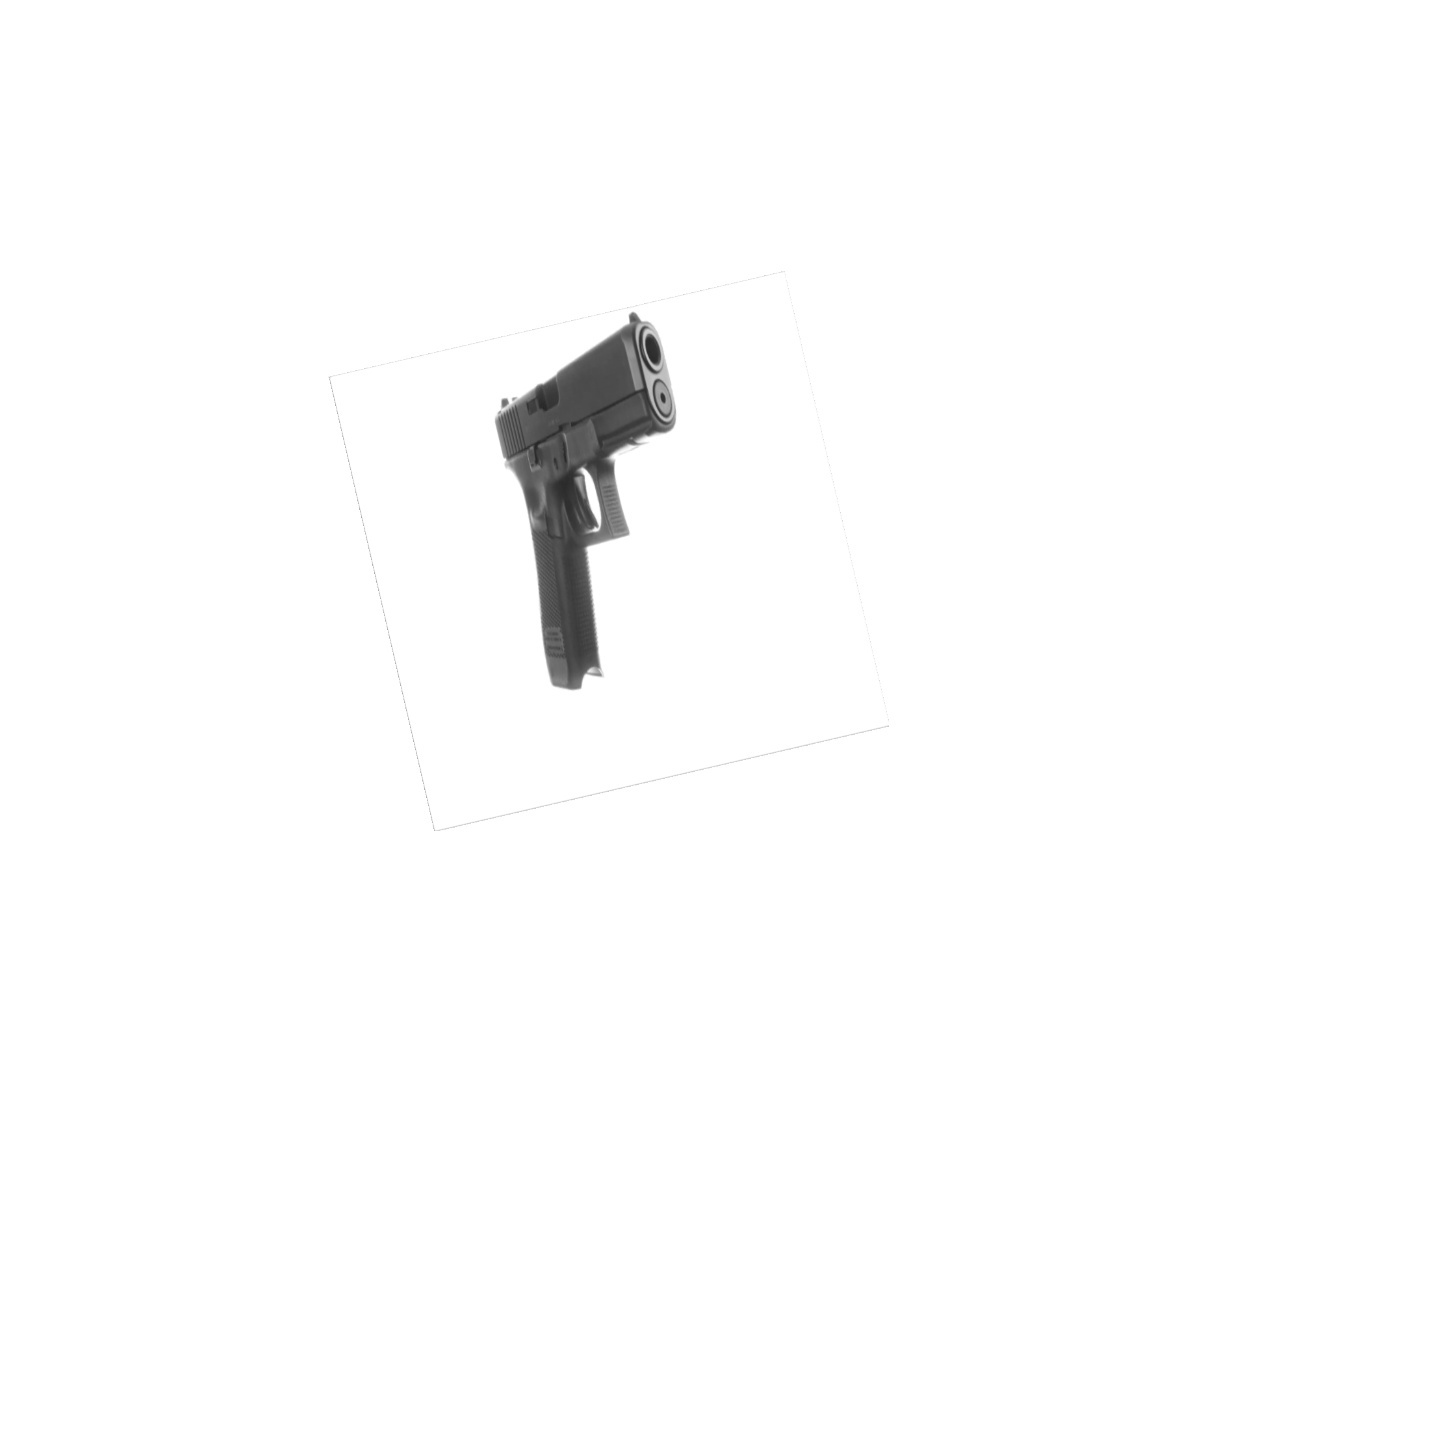gun: (490, 311, 676, 691)
